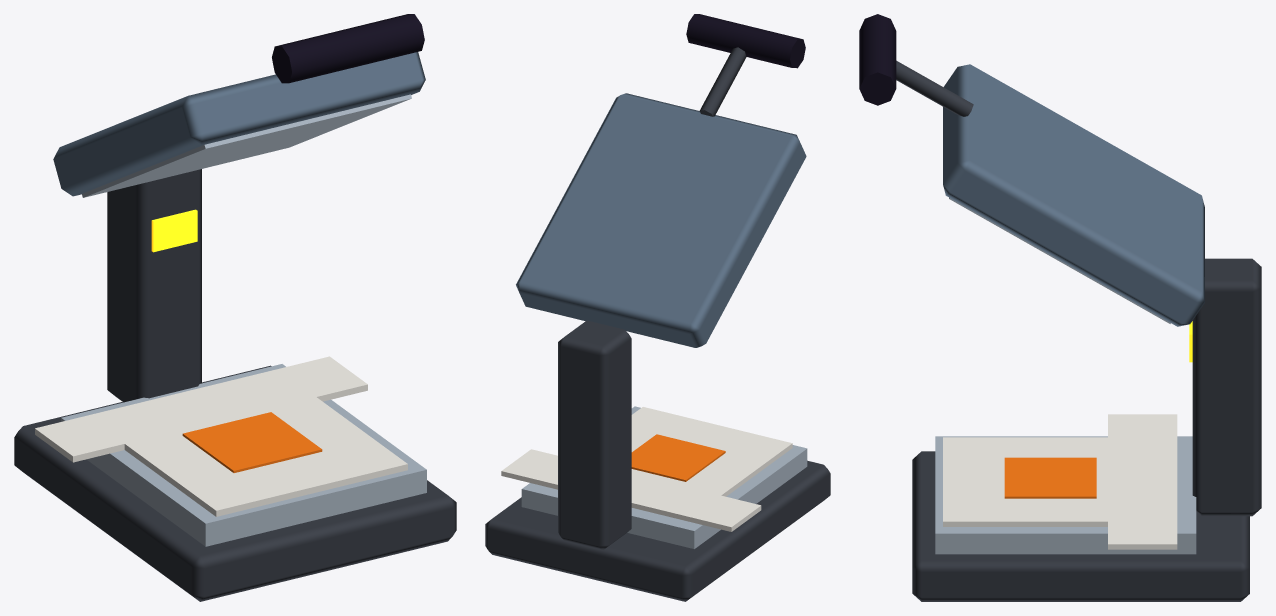
Rendered from station_buffer_ausstattung_1_1.glb.
3 renders of one model, left to right at view 1: azimuth 30°, elevation 25°; view 2: azimuth 150°, elevation 25°; view 3: azimuth 270°, elevation 25°, orthographic. The views are drawn at different scales.
Parts seen in each view (by area): view 1: station_buffer_ausstattung_1_1; view 2: station_buffer_ausstattung_1_1; view 3: station_buffer_ausstattung_1_1.
Boxes of the visible parts, <box> form: station_buffer_ausstattung_1_1: <box>14,14,456,601</box>; station_buffer_ausstattung_1_1: <box>485,14,830,601</box>; station_buffer_ausstattung_1_1: <box>859,14,1261,601</box>.
Size of the model in its own units: 0.4 by 0.725 by 0.5241.
